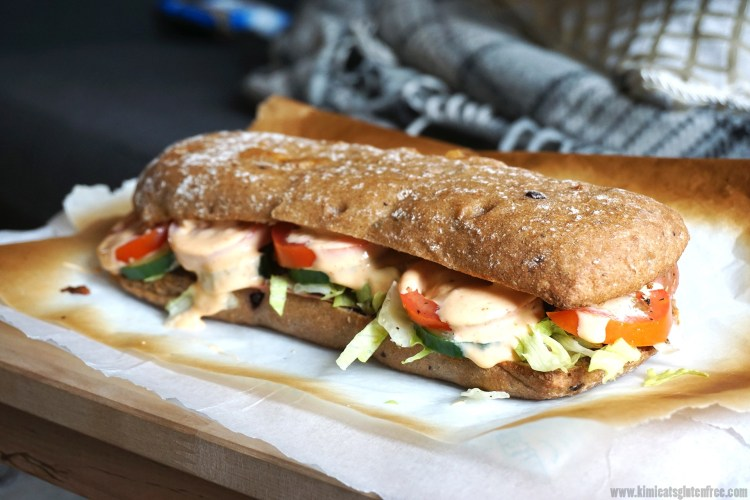sandwich: (78, 115, 716, 422)
